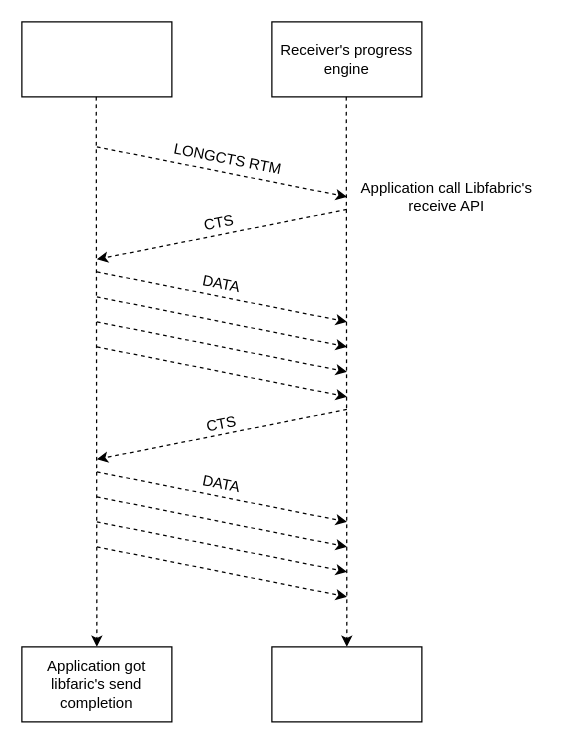
Some shapes in this 569 by 744 pixel diagram are drawn without their labels. Each missing label, with the box of its shape:
Application call Libfabric's send API: (21, 21, 172, 97)
Application got Libfabric's receive completion: (271, 646, 422, 722)
